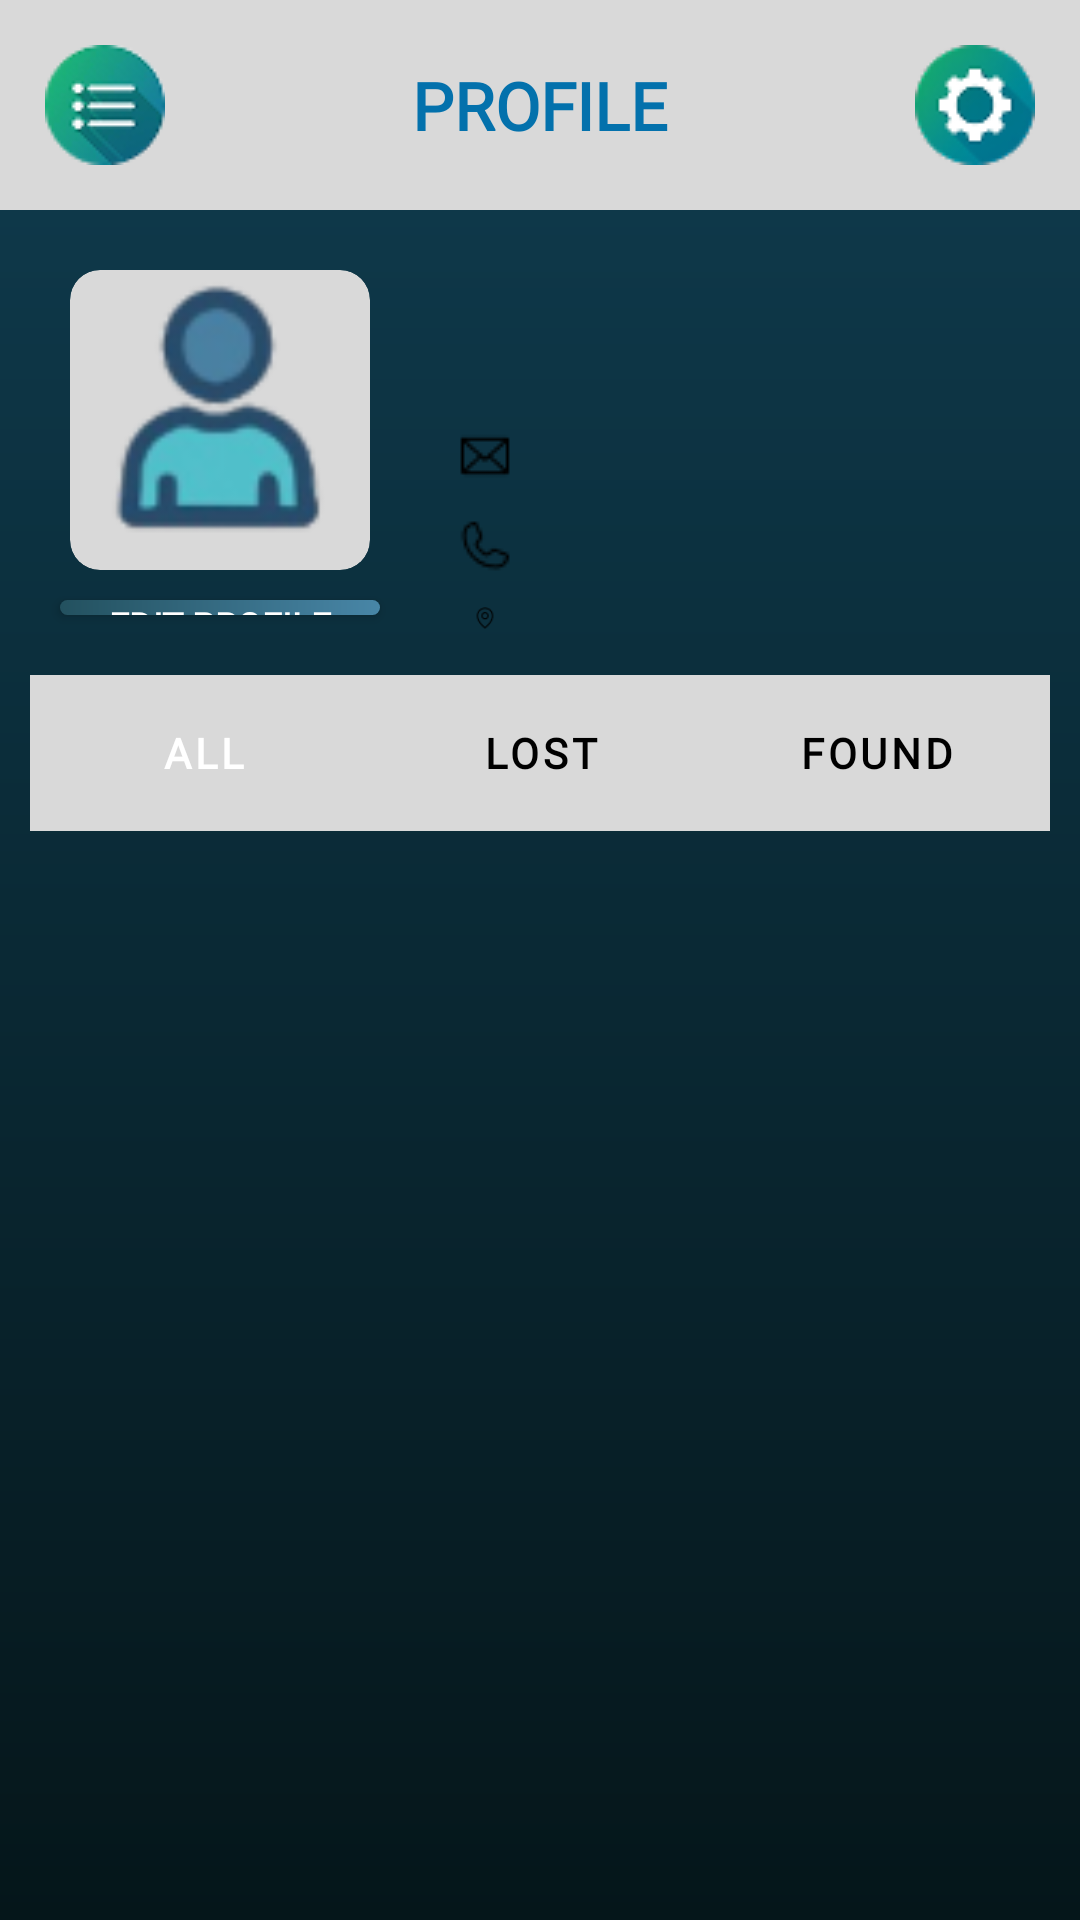

Locate icon controls on the screen. Image size 1080w x 1920h, boxes as [x1, y1, x2, y2].
envelope: [461, 437, 509, 475]
Menu Options: [45, 45, 165, 165]
phone: [462, 522, 509, 569]
settings: [915, 45, 1035, 165]
